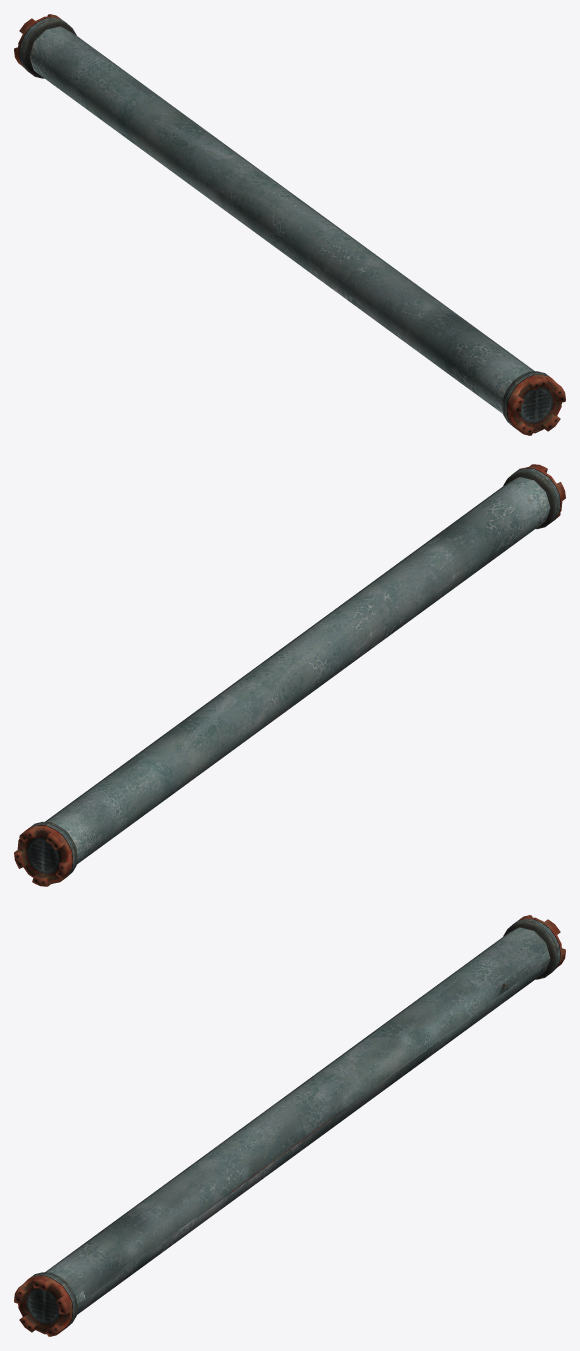
The model's file is tau_tech_8m.DAE.
3 views of the same model, one above another, from view 1: azimuth 30°, elevation 25°; view 2: azimuth 150°, elevation 25°; view 3: azimuth 330°, elevation 25° (orthographic).
Visible parts, largest first — view 1: polySurface779; view 2: polySurface779; view 3: polySurface779.
Boxes of the visible parts, x1,y1,x2,y2 form: polySurface779: [14, 14, 565, 435]; polySurface779: [14, 464, 565, 886]; polySurface779: [14, 915, 565, 1336].
Bounding box in the file's own units: 0.4984 × 0.5035 × 8.03.
